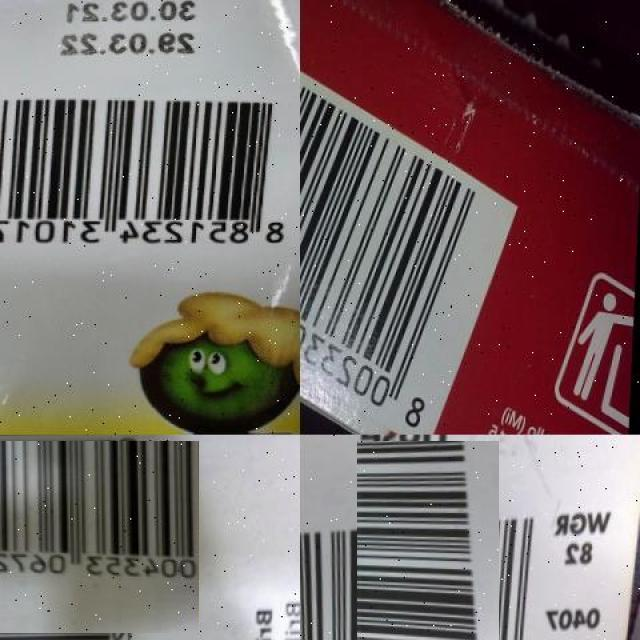Barcode: (300, 33, 531, 435), (0, 88, 300, 253), (0, 437, 195, 636), (328, 469, 526, 640)
